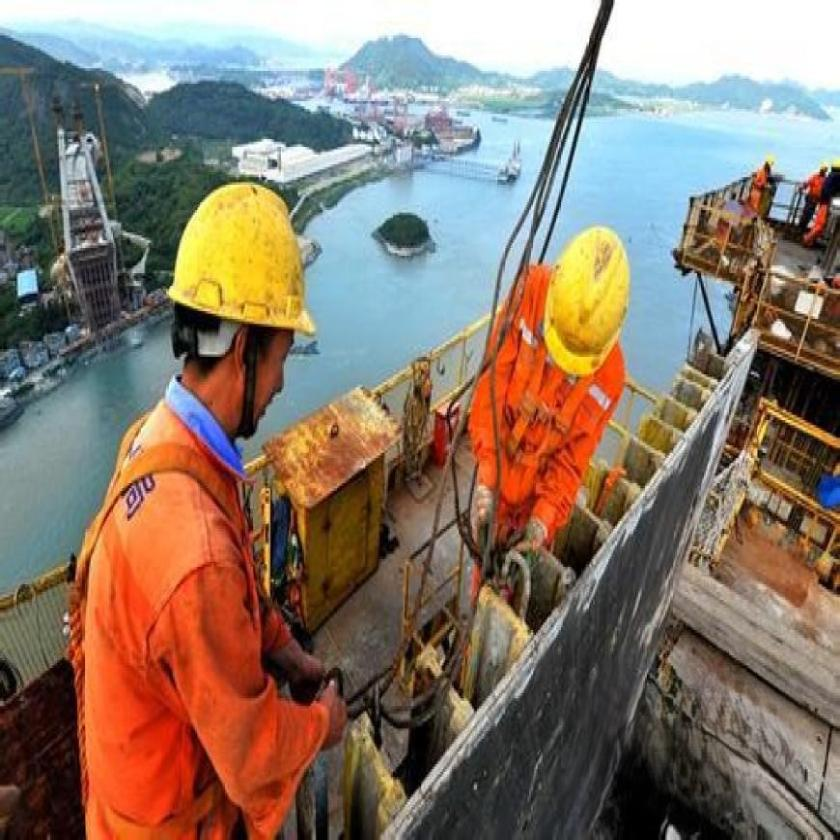Con_casco: (170, 176, 315, 454)
